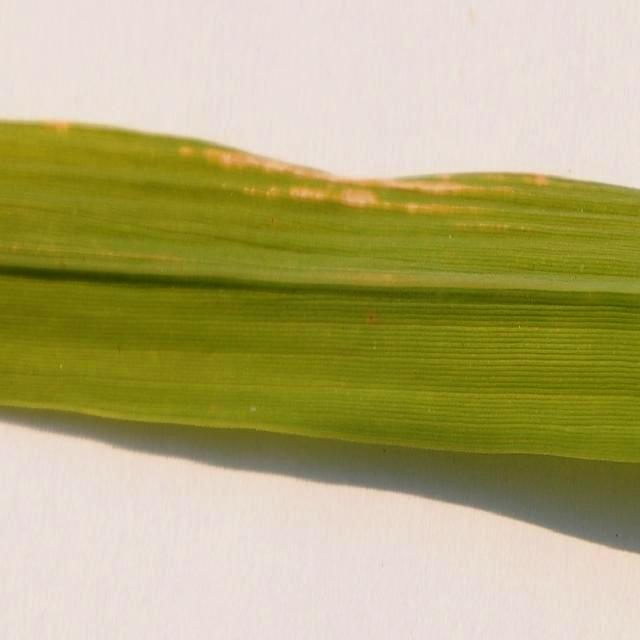bacterial_leaf_blight: (208, 147, 477, 196), (340, 189, 375, 205), (43, 123, 70, 132), (535, 175, 548, 185)
